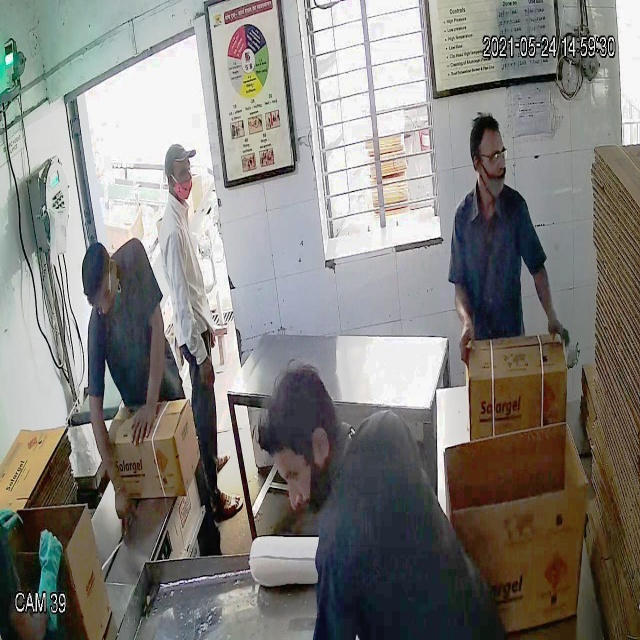Gafas: (468, 141, 510, 170)
